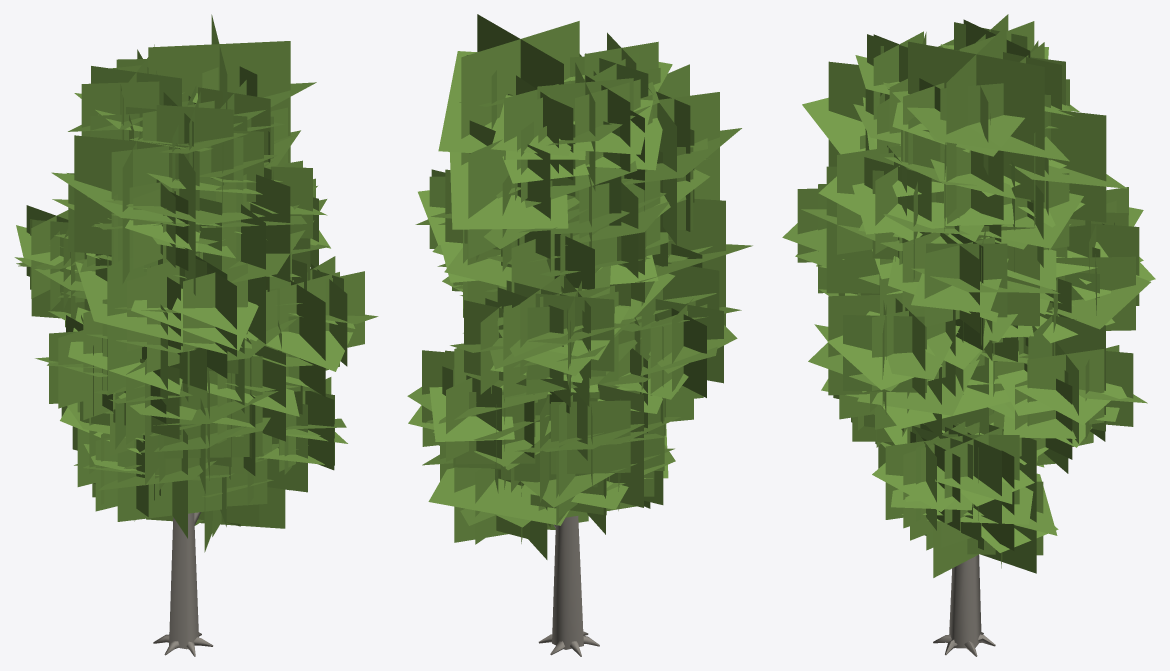
The model's file is tilleul_5_f2_loin.glb.
The picture shows the model from 3 angles, left to right: view 1: azimuth 30°, elevation 25°; view 2: azimuth 150°, elevation 25°; view 3: azimuth 270°, elevation 25°; orthographic projection. The views are drawn at different scales.
Parts seen in each view (by area): view 1: Tilleul_T5_f2_Leger_Loin; view 2: Tilleul_T5_f2_Leger_Loin; view 3: Tilleul_T5_f2_Leger_Loin.
Part boxes in pixels (x1,y1,x2,y2): Tilleul_T5_f2_Leger_Loin: [14, 14, 378, 656]; Tilleul_T5_f2_Leger_Loin: [407, 14, 752, 656]; Tilleul_T5_f2_Leger_Loin: [782, 14, 1155, 656].
Bounding box in the file's own units: 11.87 × 21.72 × 12.01.
